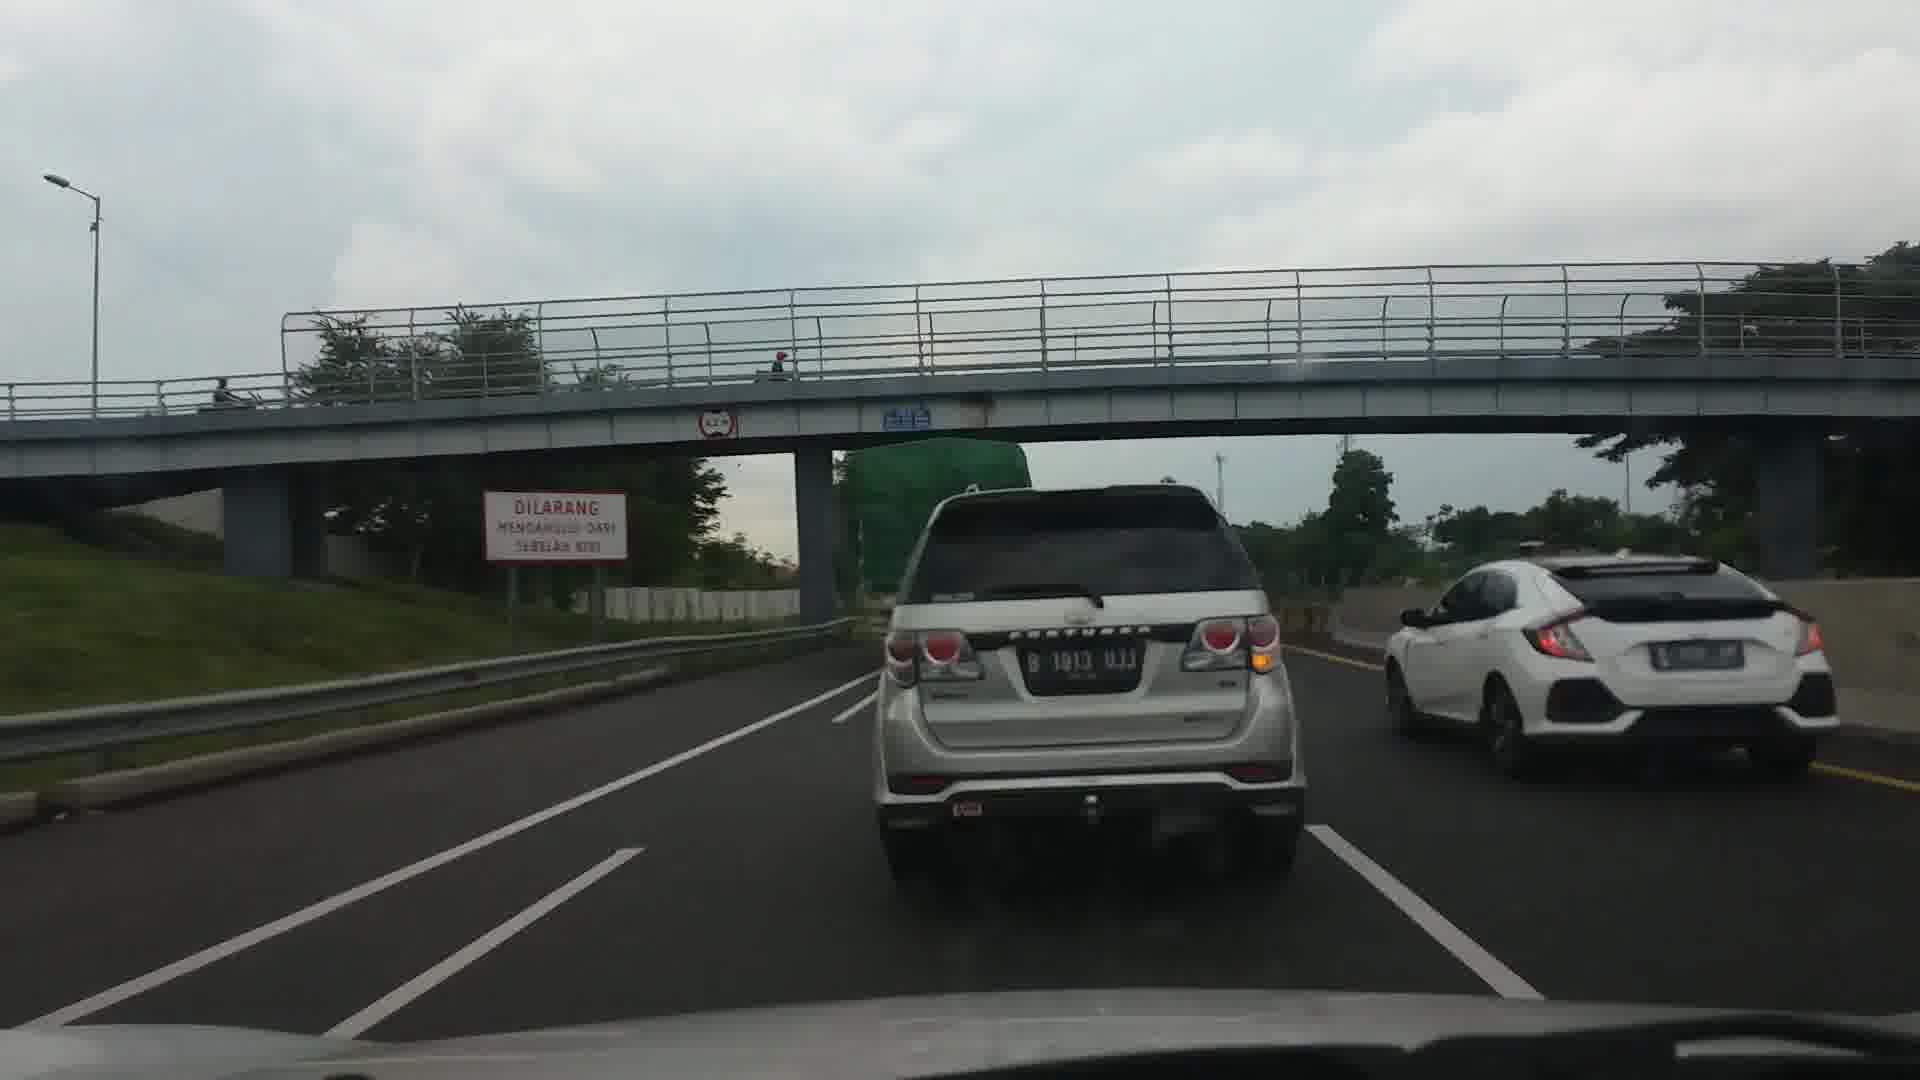plate_positive: (1025, 644, 1139, 682)
